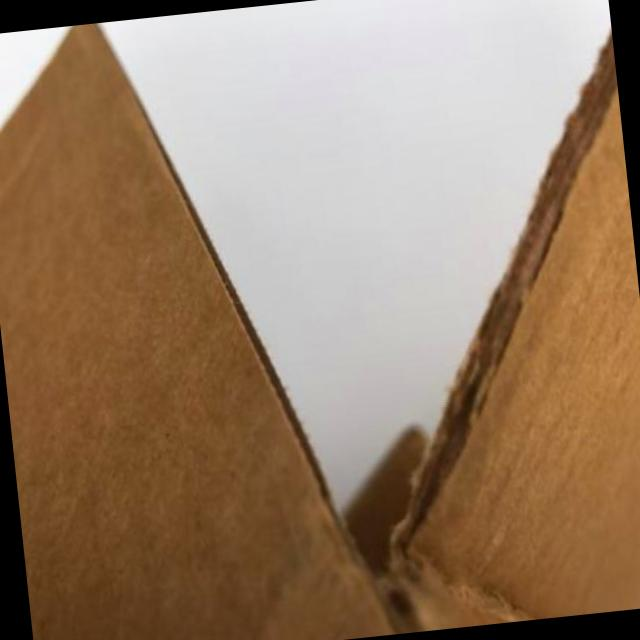cardboard paper: (0, 22, 395, 640), (389, 28, 640, 632)
